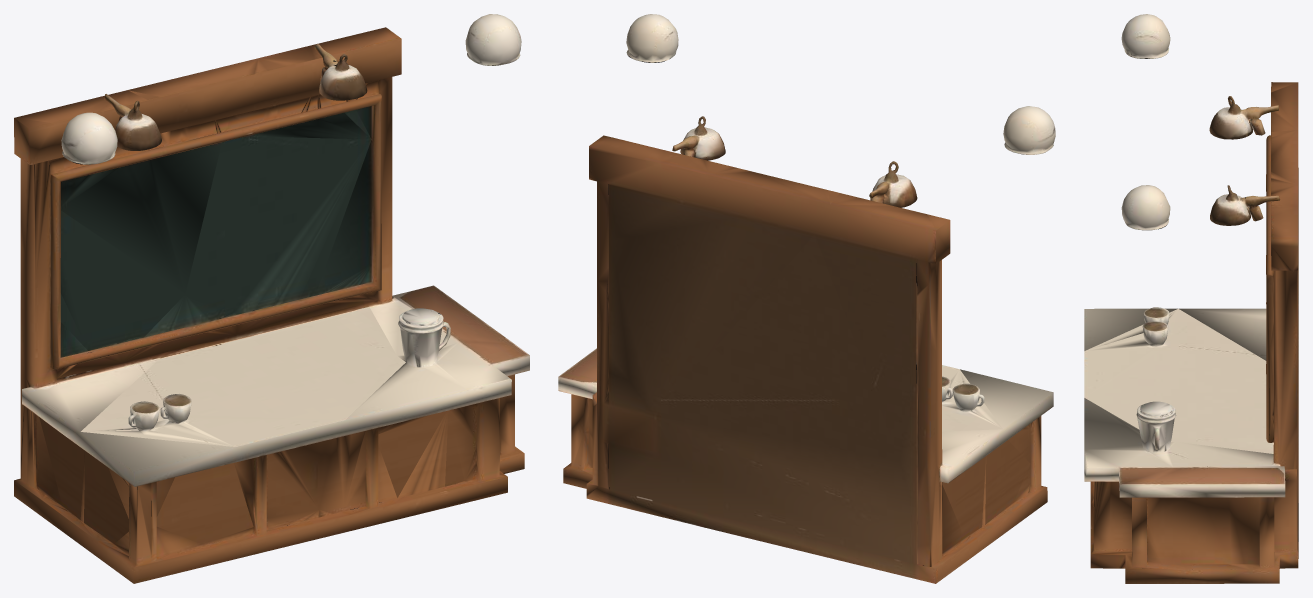
Rendered from pickup-counter.glb.
3 renders of one model, left to right at view 1: azimuth 30°, elevation 25°; view 2: azimuth 150°, elevation 25°; view 3: azimuth 270°, elevation 25°, orthographic. The views are drawn at different scales.
Parts seen in each view (by area): view 1: pickup_counter; view 2: pickup_counter; view 3: pickup_counter.
Part boxes in pixels (left/top/right/bottom): pickup_counter: left=14, top=14, right=529, bottom=583; pickup_counter: left=558, top=14, right=1055, bottom=583; pickup_counter: left=1084, top=14, right=1298, bottom=583.
Size of the model in its own units: 2.43 by 2.3 by 1.15.
Materials: 1 (1 with a texture image).
